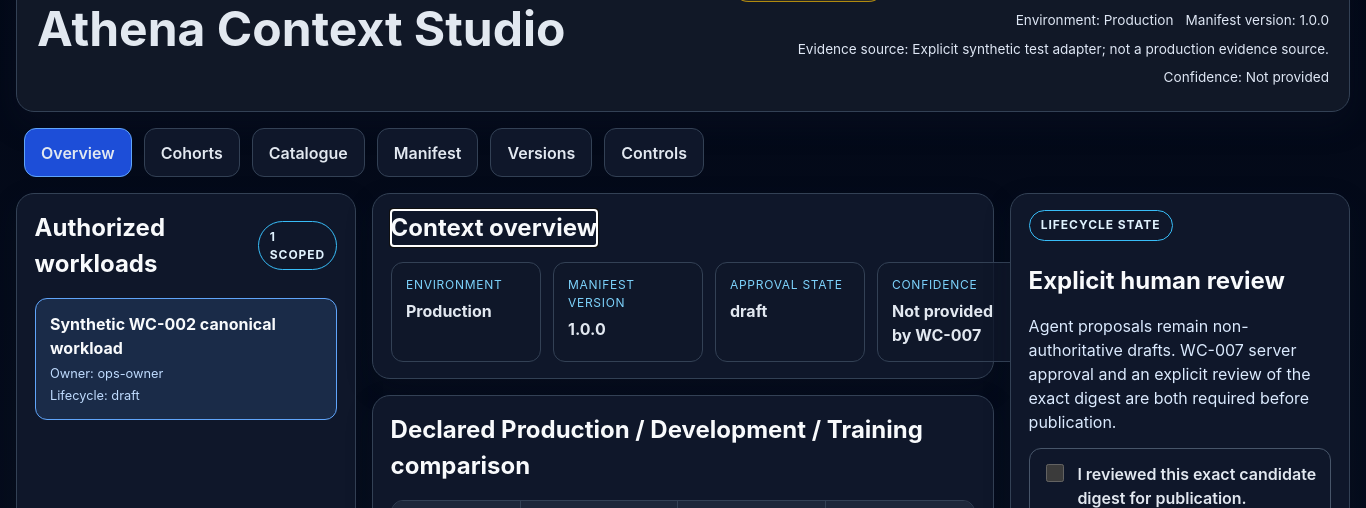
it: cohort proposal review › reloads a valid rebased decision applied at a later draft revision
What coordinates should you click on to do the following:
click the button "Cohorts"
I would click on:
 (192, 153)
Its box is [144,128,240,177].
(page scrolled)
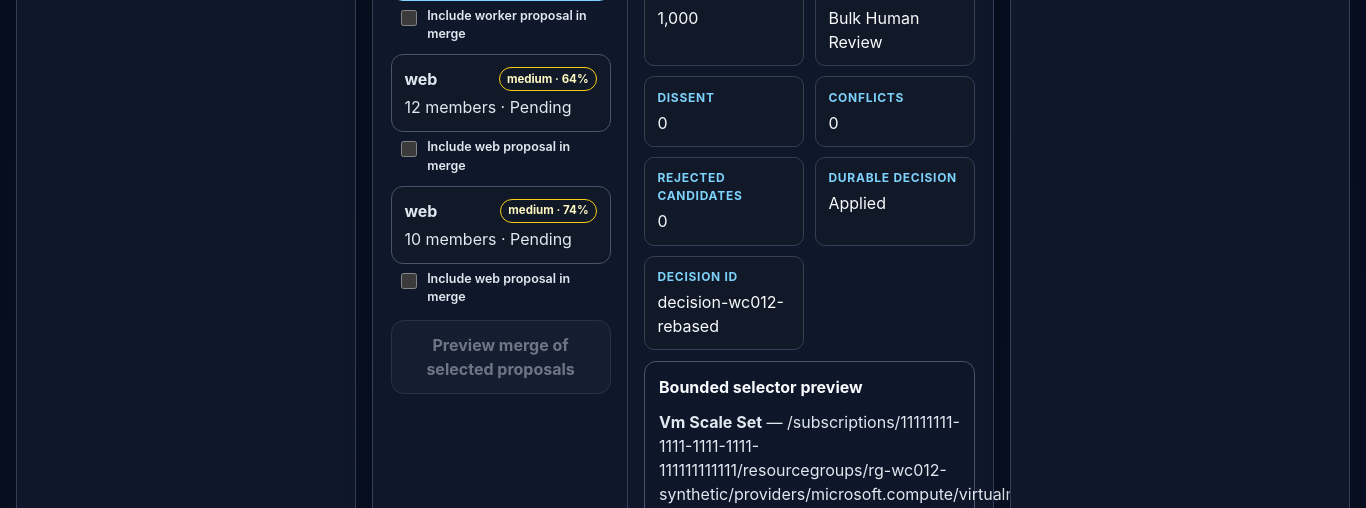
Expected: the text "decision-wc012-rebased" is shown, [657,290,790,338]
